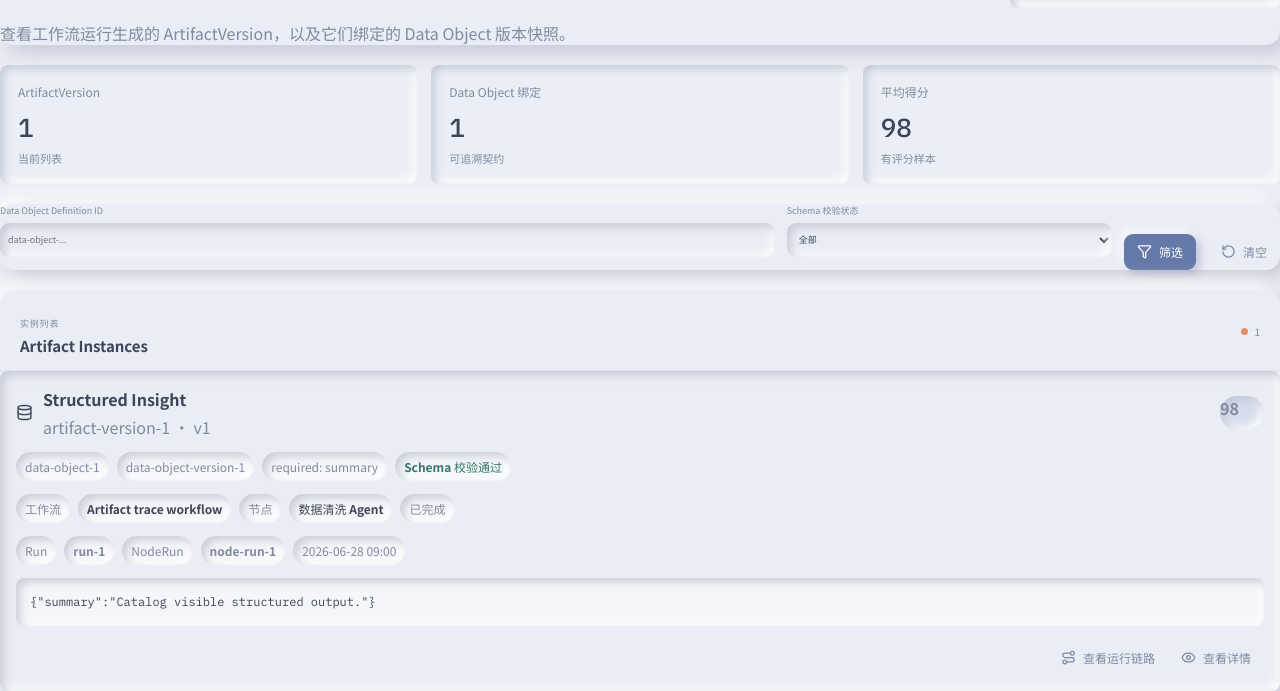
Artifacts page › shows artifact source context in the list and detail dialog
This screenshot has width=1280, height=691.
(page scrolled)
Expected: the text "Artifact trace workflow" is shown, [78, 494, 232, 523]
Expected: the text "数据清洗 Agent" is shown, [290, 494, 392, 523]
Click the button with aria-label "查看 artifact-version-1 详情" at (1216, 657), box [1168, 639, 1264, 675]
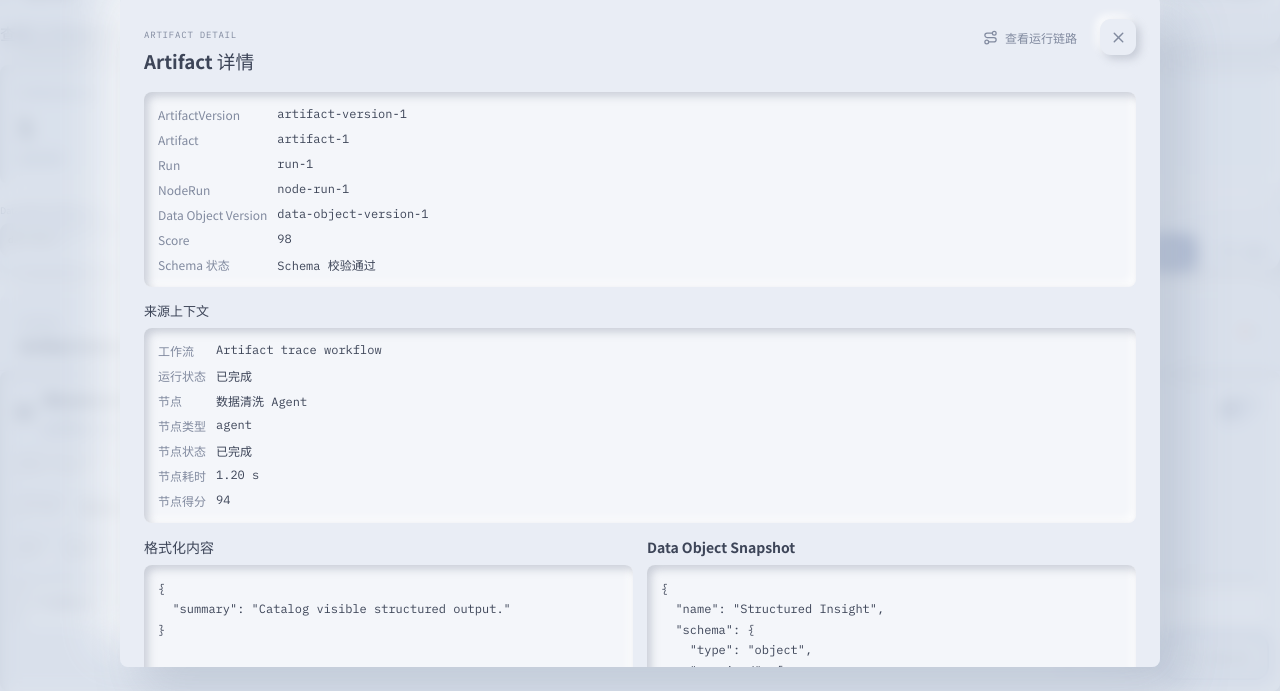
Result: the dialog "Artifact 详情" shows "来源上下文" at [144, 301, 209, 320]
Result: the dialog "Artifact 详情" shows "Artifact trace workflow" at [216, 342, 382, 357]
Result: the dialog "Artifact 详情" shows "数据清洗 Agent" at [216, 394, 307, 409]
